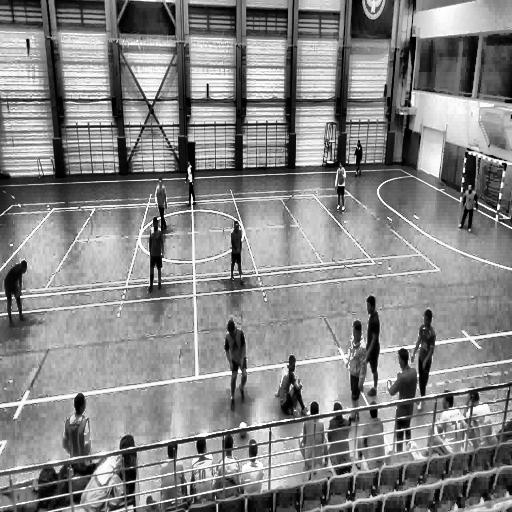ball: (238, 420, 248, 439)
player: (412, 310, 436, 410), (225, 320, 248, 409), (345, 320, 367, 412), (277, 354, 303, 418), (4, 259, 28, 326), (148, 216, 164, 291), (458, 182, 476, 230), (230, 220, 244, 281), (154, 174, 168, 235), (334, 159, 346, 212), (186, 158, 197, 208), (354, 141, 362, 177)
